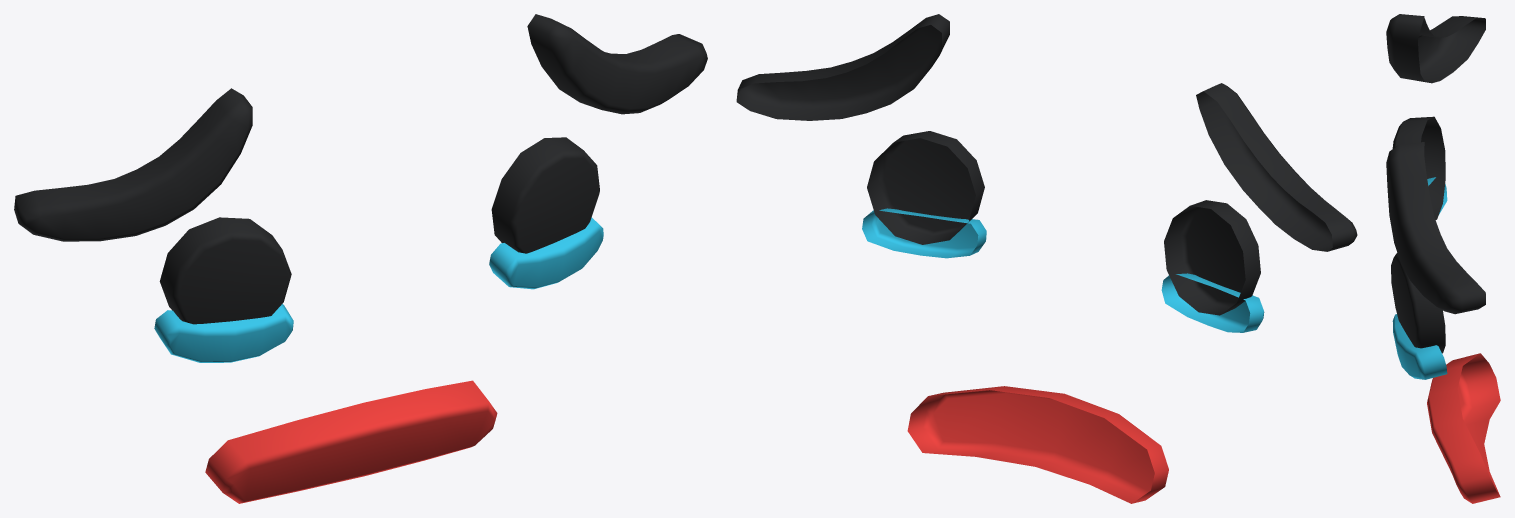
Rendered from Female_Emotion_Cry_01.glb.
The picture shows the model from 3 angles, left to right: view 1: azimuth 30°, elevation 25°; view 2: azimuth 150°, elevation 25°; view 3: azimuth 270°, elevation 25°; orthographic projection. The views are drawn at different scales.
Visible parts, largest first — view 1: Female_Emotion_Cry_01; view 2: Female_Emotion_Cry_01; view 3: Female_Emotion_Cry_01.
Part boxes in pixels (x1,y1,x2,y2): Female_Emotion_Cry_01: [14, 14, 707, 503]; Female_Emotion_Cry_01: [736, 14, 1357, 503]; Female_Emotion_Cry_01: [1386, 14, 1500, 503].
Size of the model in its own units: 0.2727 by 0.1693 by 0.0466.
Materials: 1 (1 with a texture image).
